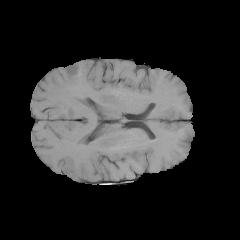glioma: (54, 61, 83, 86)
